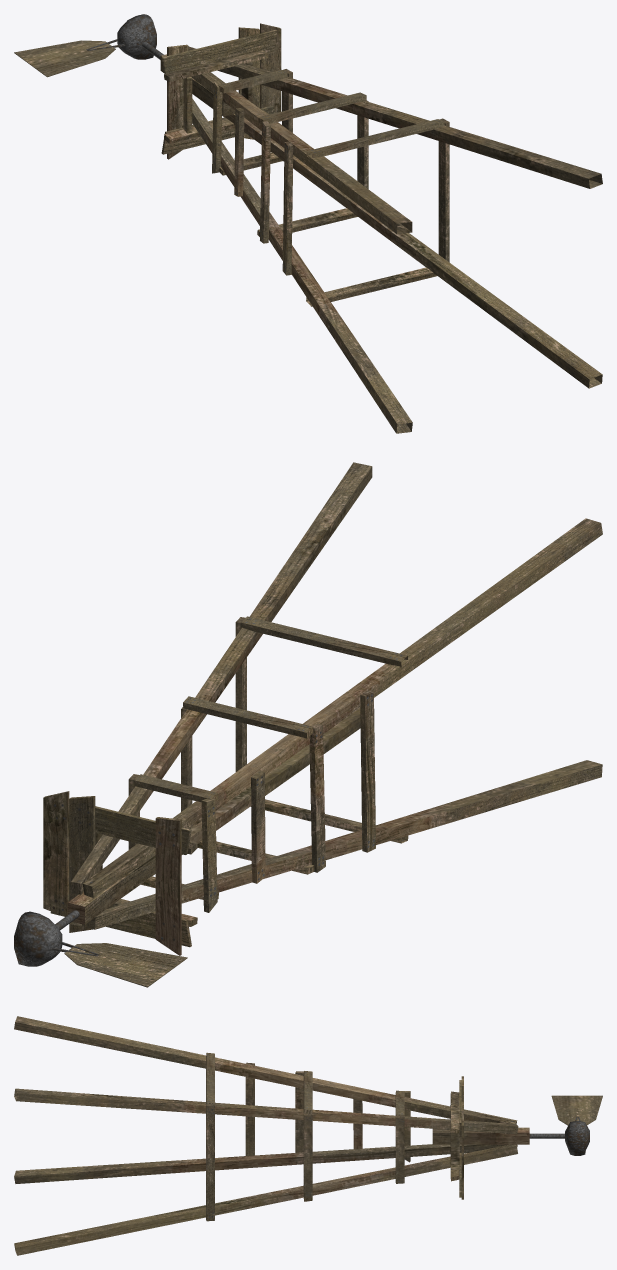
The model's file is kaki_windmill.glb.
3 views of the same model, one above another, from view 1: azimuth 30°, elevation 25°; view 2: azimuth 150°, elevation 25°; view 3: azimuth 270°, elevation 25° (orthographic). The views are drawn at different scales.
Parts seen in each view (by area): view 1: Windmill_Windmill_MAT_0.079; view 2: Windmill_Windmill_MAT_0.079; view 3: Windmill_Windmill_MAT_0.079.
Boxes of the visible parts, x1,y1,x2,y2 form: Windmill_Windmill_MAT_0.079: (14, 14, 602, 433); Windmill_Windmill_MAT_0.079: (14, 462, 602, 987); Windmill_Windmill_MAT_0.079: (14, 1016, 602, 1255).
Bounding box in the file's own units: 219 × 211 × 690.
Materials: 1 (1 with a texture image).
